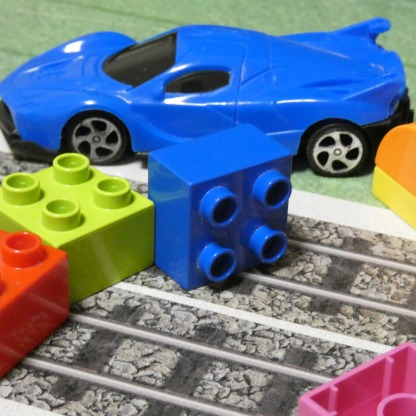car: (0, 16, 414, 178)
